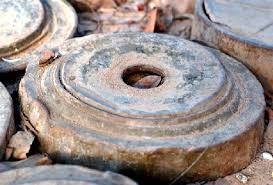car: (13, 15, 267, 184)
